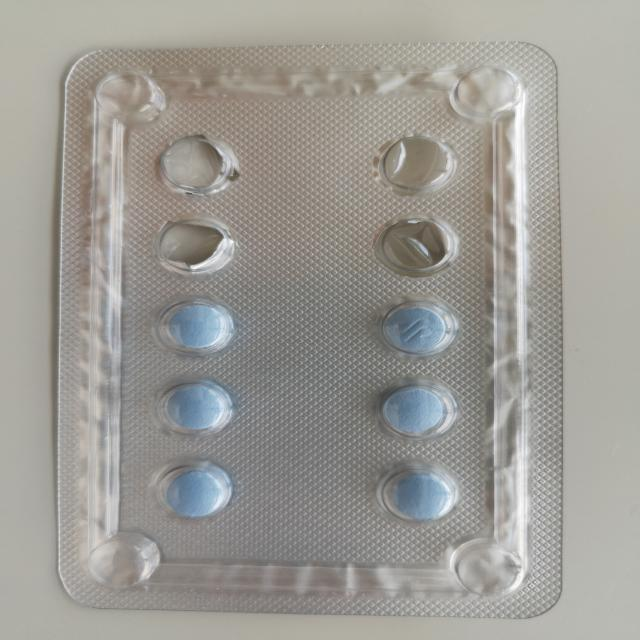Empty: (148, 131, 243, 198), (370, 212, 462, 278), (368, 131, 458, 198), (150, 215, 241, 278)
Pill: (370, 458, 460, 527), (142, 457, 236, 522), (148, 295, 241, 360), (370, 379, 464, 442), (148, 376, 239, 440), (374, 298, 458, 363)
